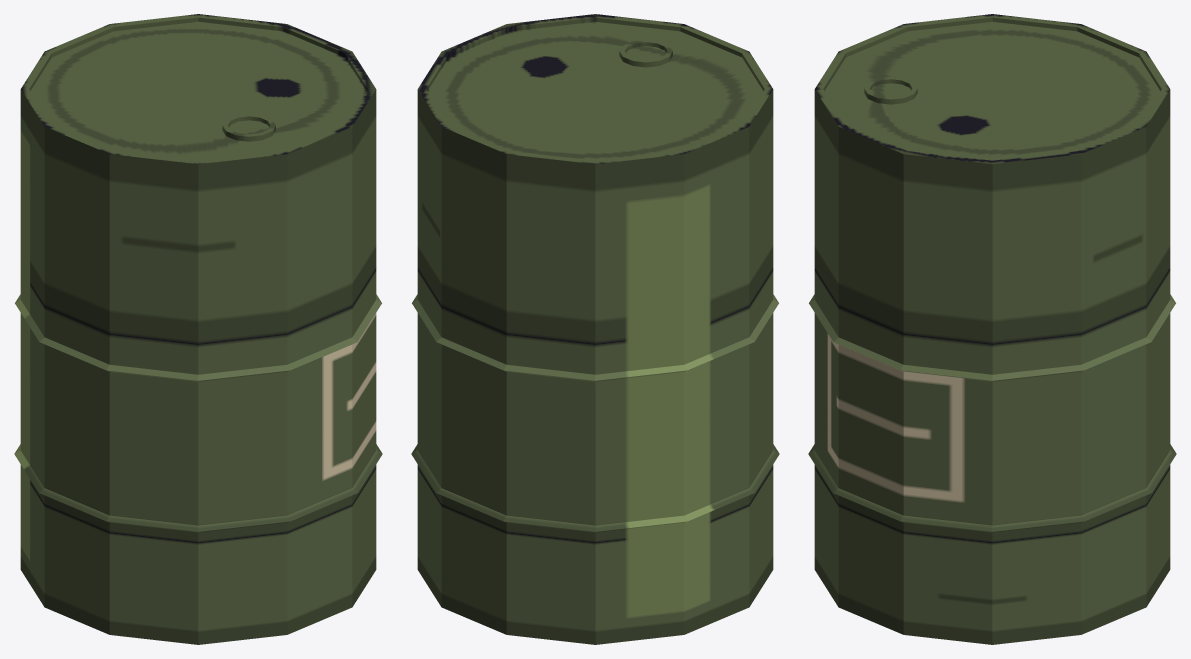
File: prop_barrels_green.glb
3 renders of one model, left to right at view 1: azimuth 30°, elevation 25°; view 2: azimuth 150°, elevation 25°; view 3: azimuth 270°, elevation 25°, orthographic.
Parts seen in each view (by area): view 1: prop_barrels_green_mesh; view 2: prop_barrels_green_mesh; view 3: prop_barrels_green_mesh.
Part boxes in pixels (x1,y1,x2,y2): prop_barrels_green_mesh: (14,14,382,644); prop_barrels_green_mesh: (411,14,779,644); prop_barrels_green_mesh: (808,14,1176,644).
Bounding box in the file's own units: 0.6243 × 0.9 × 0.6243.
1 material, 1 textured.
